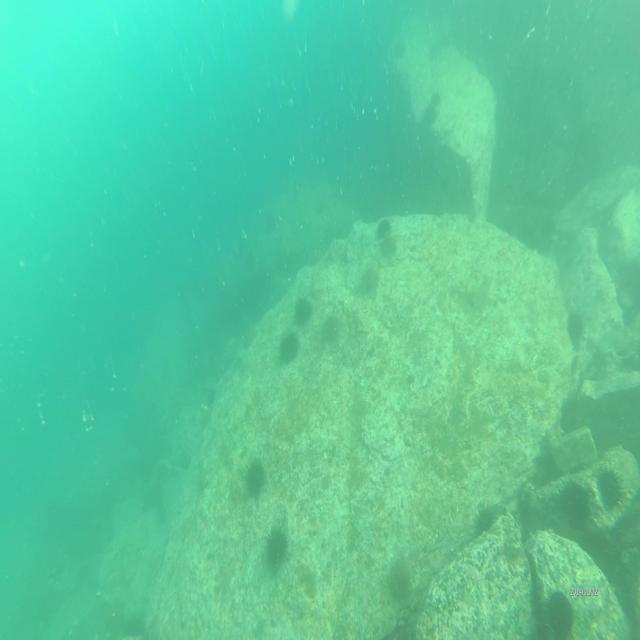echinus: (556, 481, 594, 534), (542, 583, 577, 640), (594, 459, 628, 517), (261, 520, 290, 573), (385, 558, 413, 602), (471, 498, 497, 543), (245, 455, 268, 502), (280, 326, 302, 371), (564, 304, 585, 350), (293, 289, 314, 329), (378, 233, 400, 264), (321, 315, 340, 347), (376, 216, 394, 242), (389, 36, 406, 58), (420, 107, 436, 126), (428, 86, 443, 105), (427, 40, 441, 60)
